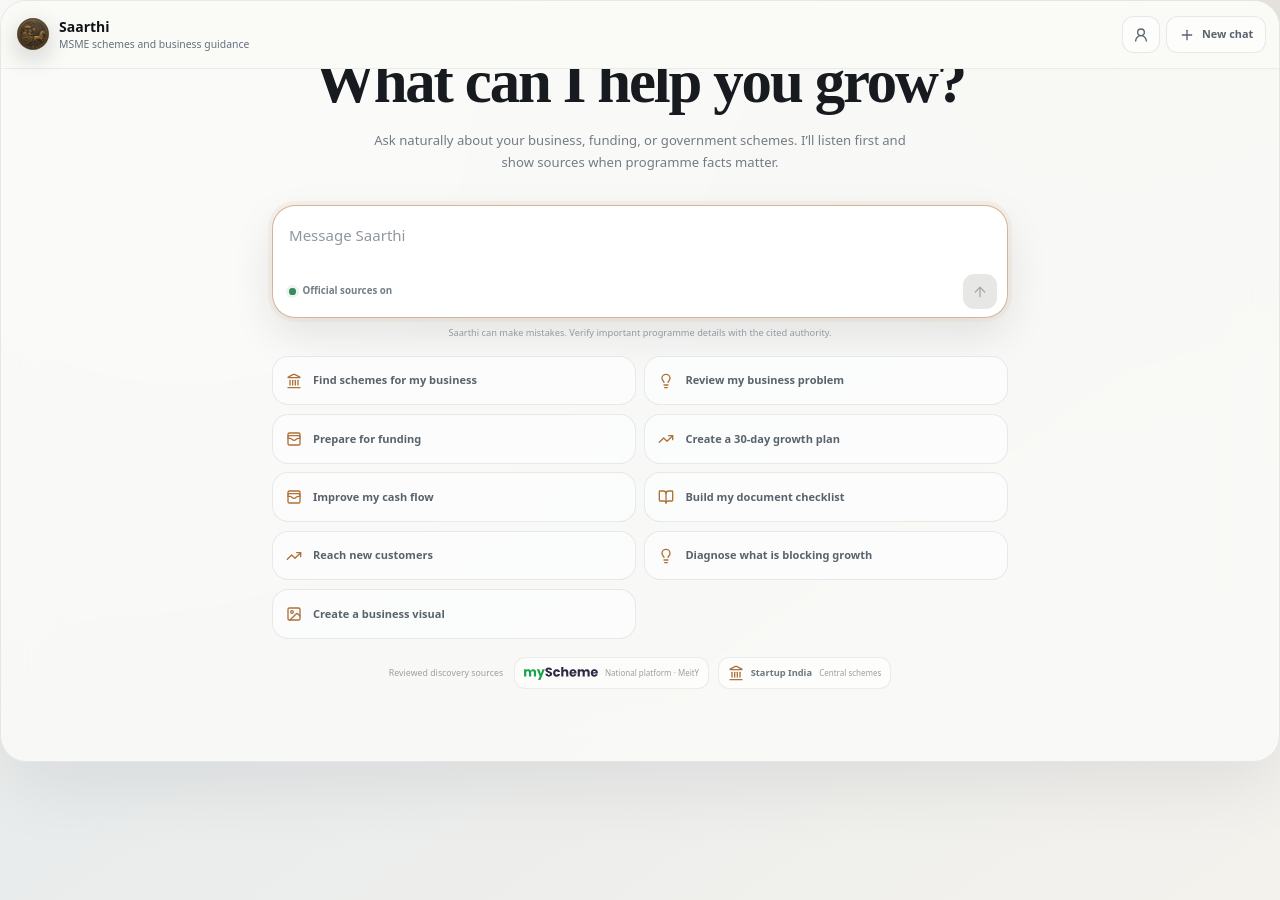
Test: Saarthi advisor workspace › sends a message with Enter
This screenshot has width=1280, height=900.
(page scrolled)
Expected: the heading "What can I help you grow?" is shown, [315, 69, 965, 113]
Type "I need working capital." into the text box labelled "Message Saarthi".
click(643, 245); type("I need working capital.")  # box [289, 215, 997, 274]
Then press Enter
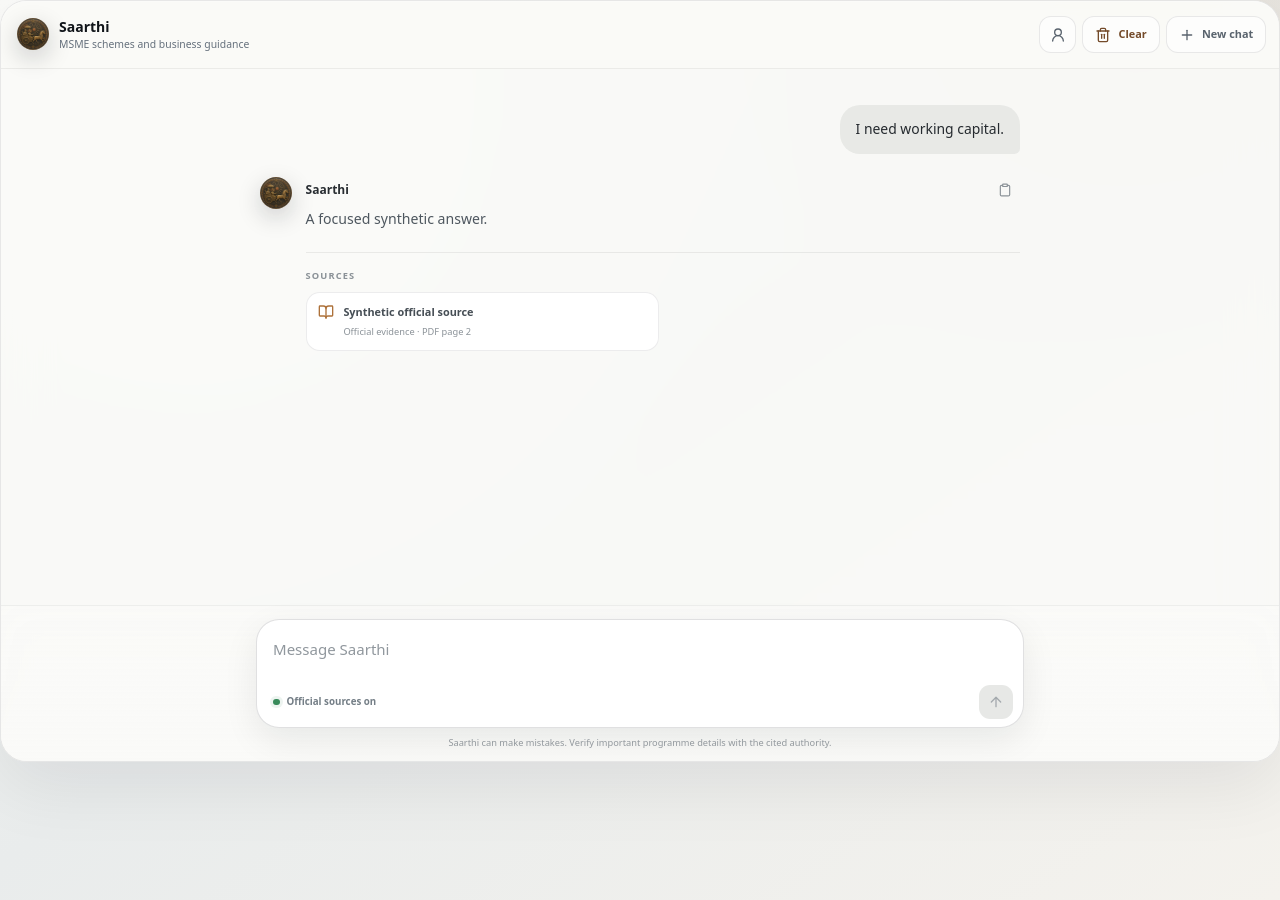
Now the text "A focused synthetic answer." is shown, box [306, 208, 487, 228]
Now the text "Official evidence · PDF page 2" is shown, box [343, 325, 474, 338]
